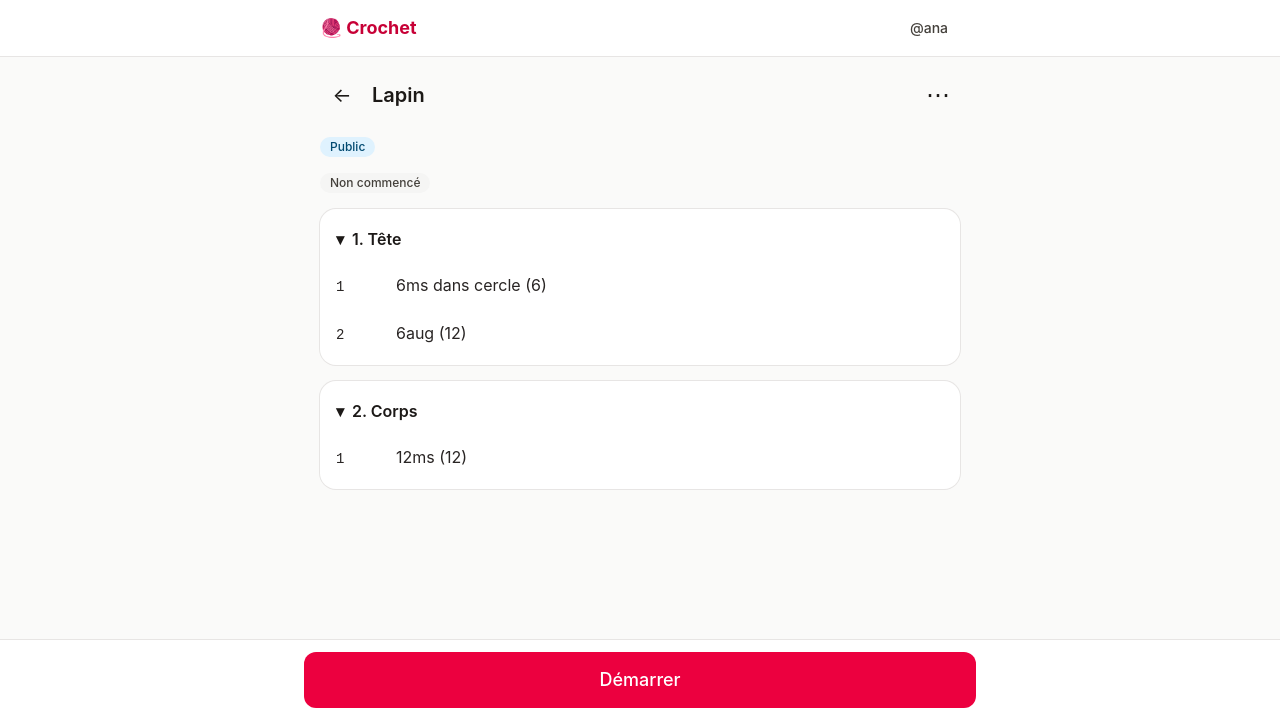
Test: détail selon l’auteur › affiche Public et la mention des autres comptes à la suppression de mon pattern public
Check: the text "Public" is shown, box 320,137 -> 375,157
Step 1. Click the button named "Actions du pattern" → (938, 95), box 916,73 -> 960,117
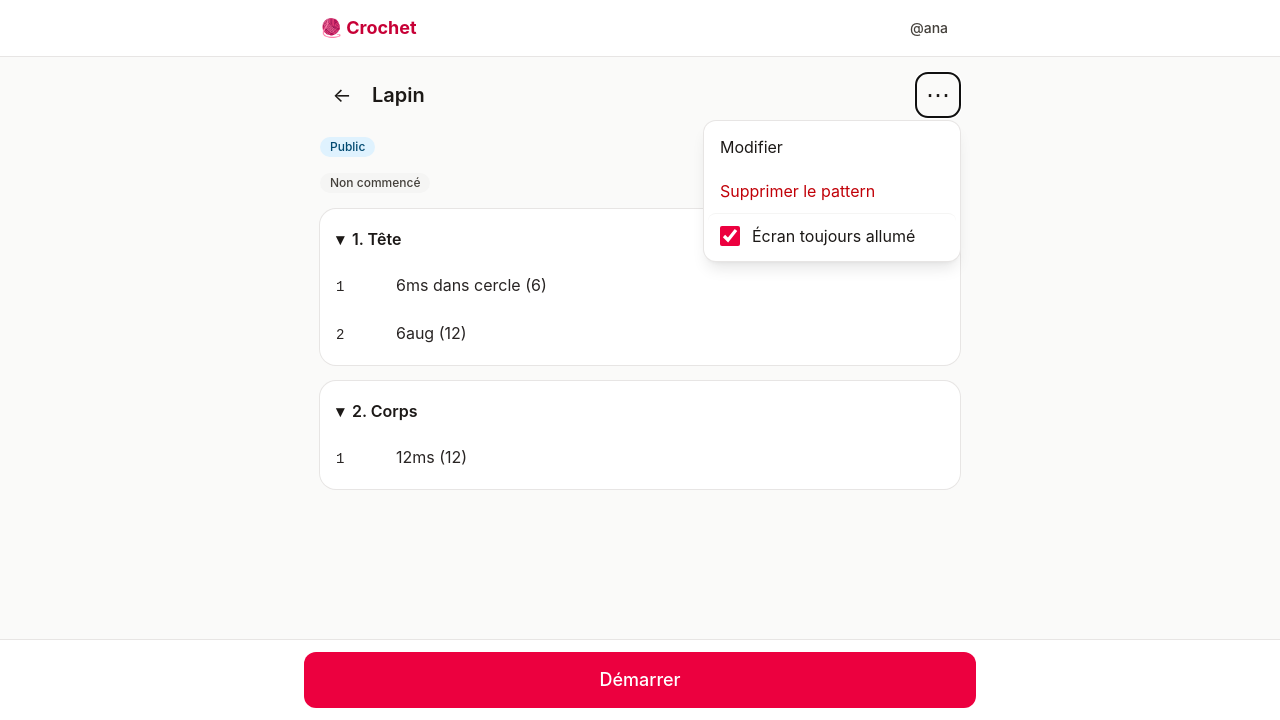
Step 2. Click the menu item "Supprimer le pattern" → (832, 191), box 708,169 -> 956,213
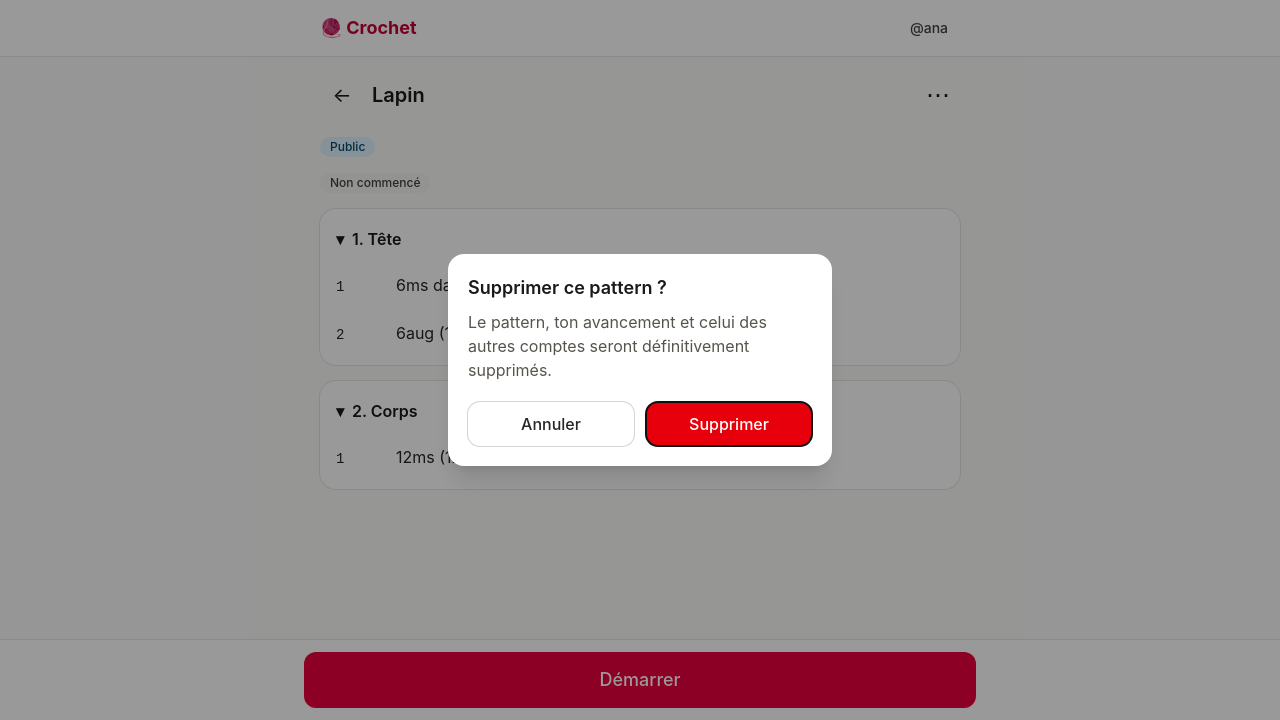
Check: the dialog shows "Le pattern, ton avancement et celui des autres comptes seront définitivement supprimés.", box 468,312 -> 767,380
